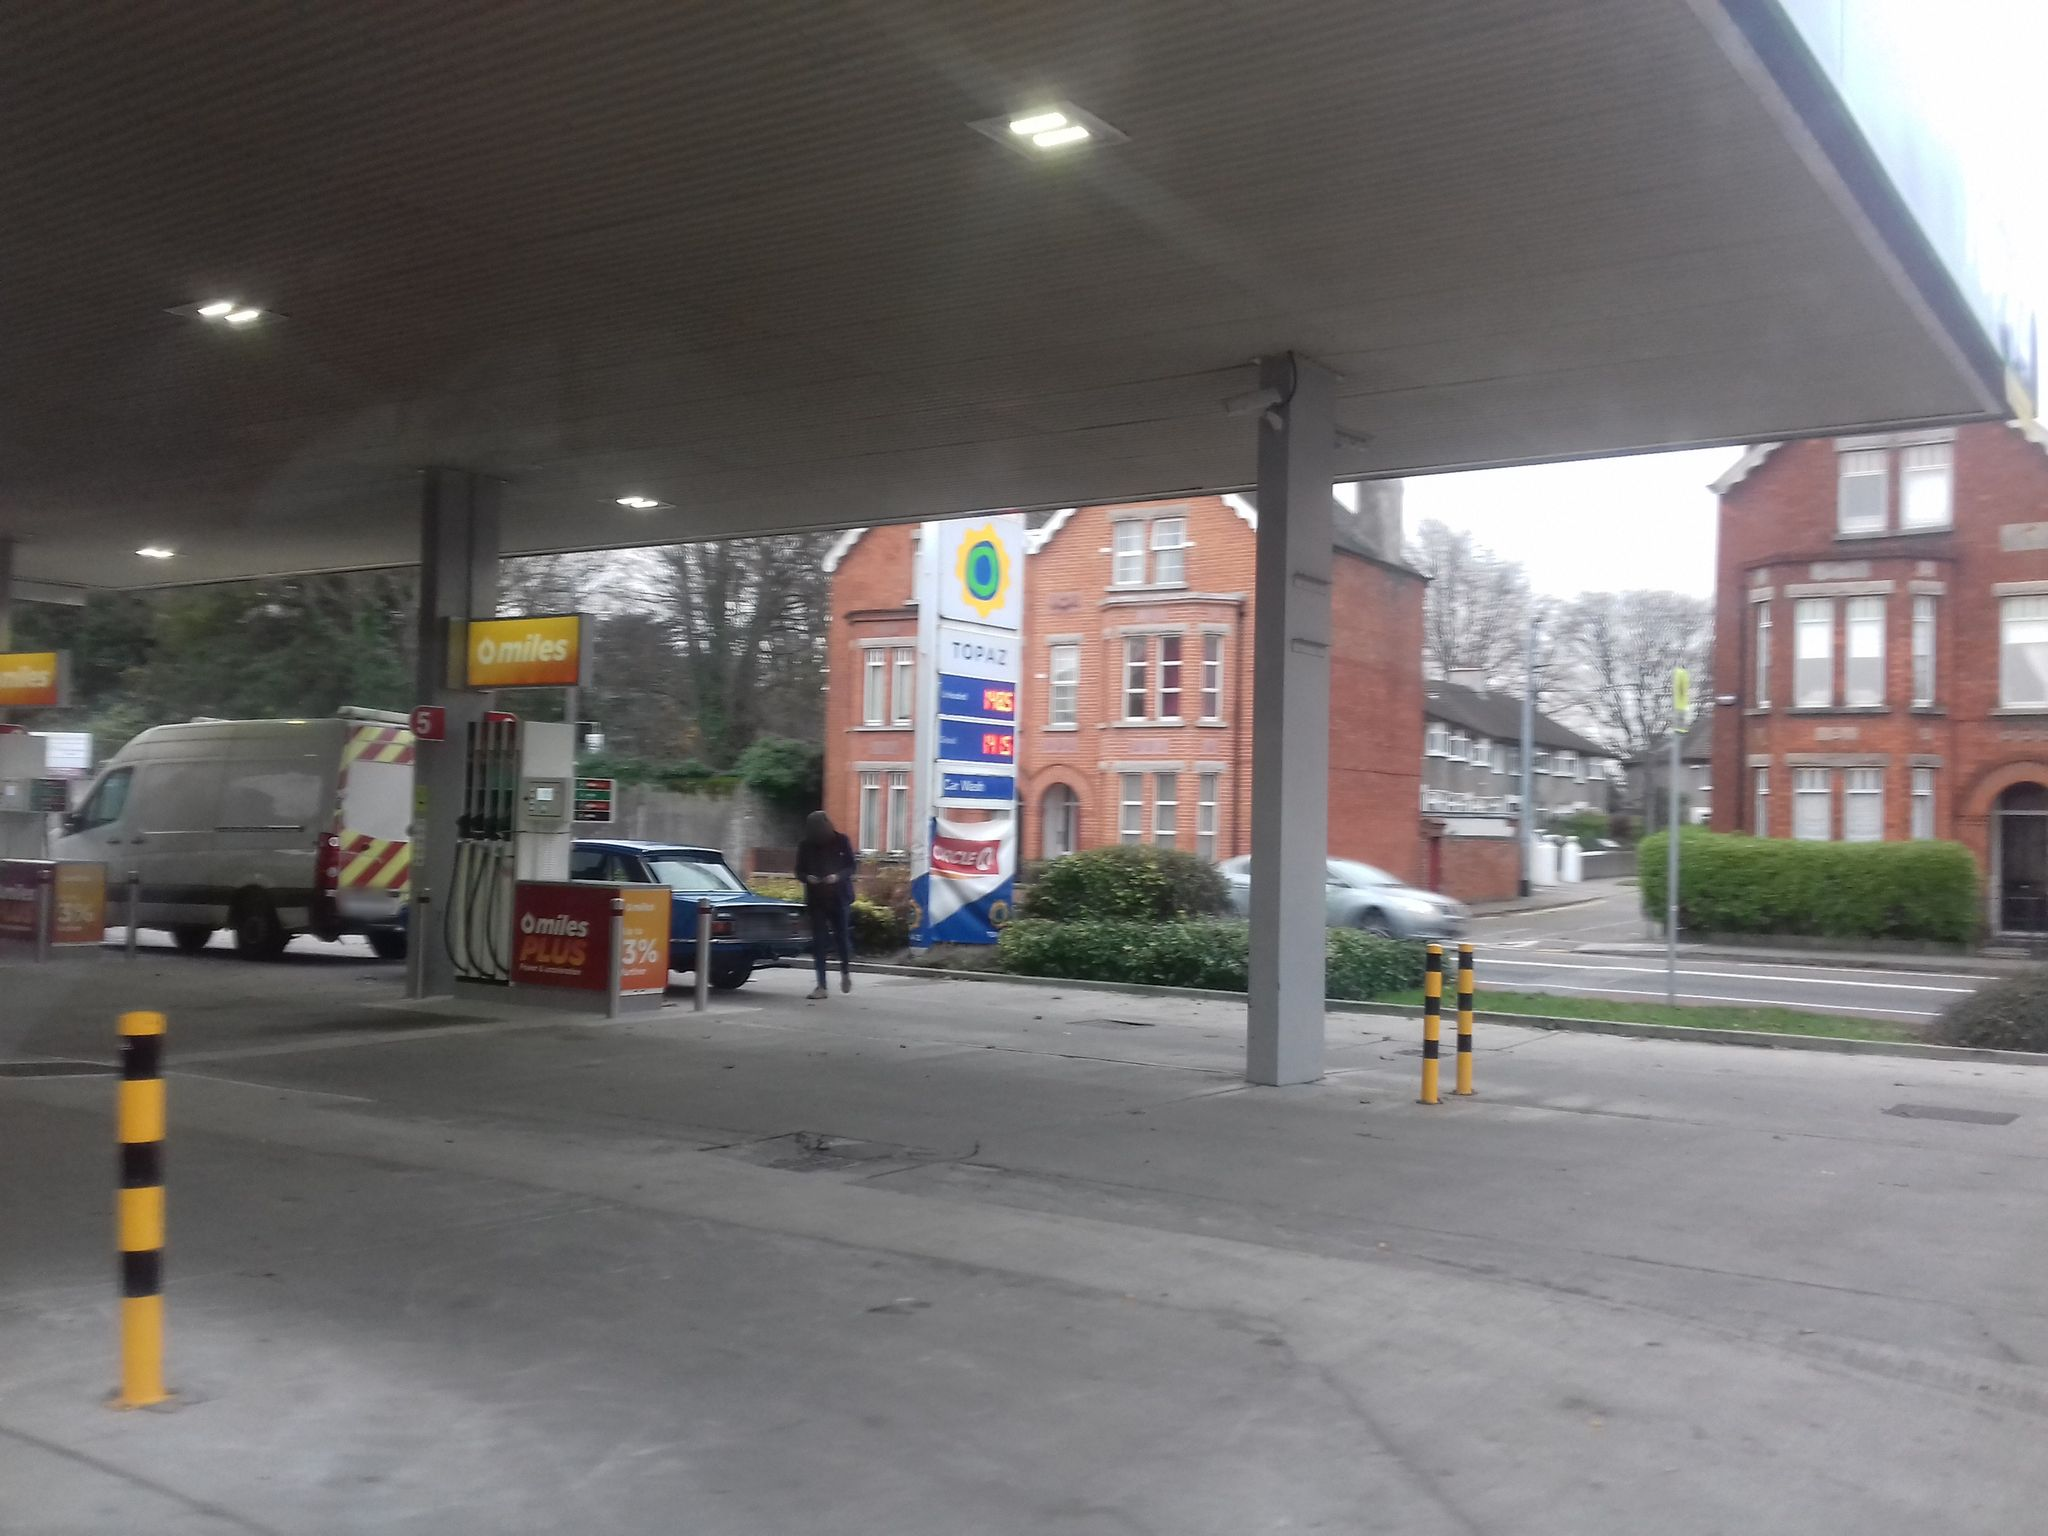vinyl banner: (893, 792, 1055, 963)
